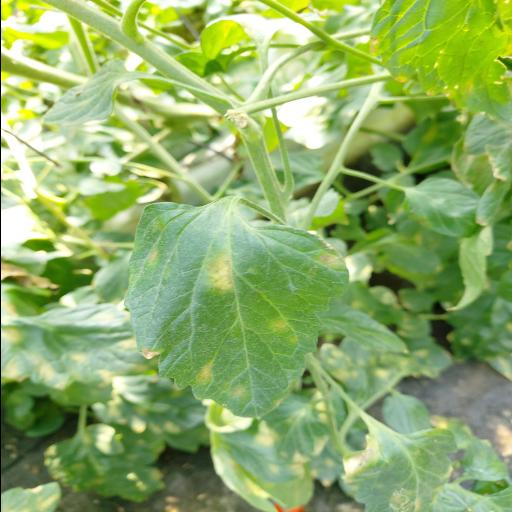disease_tomato: (122, 202, 348, 418)
